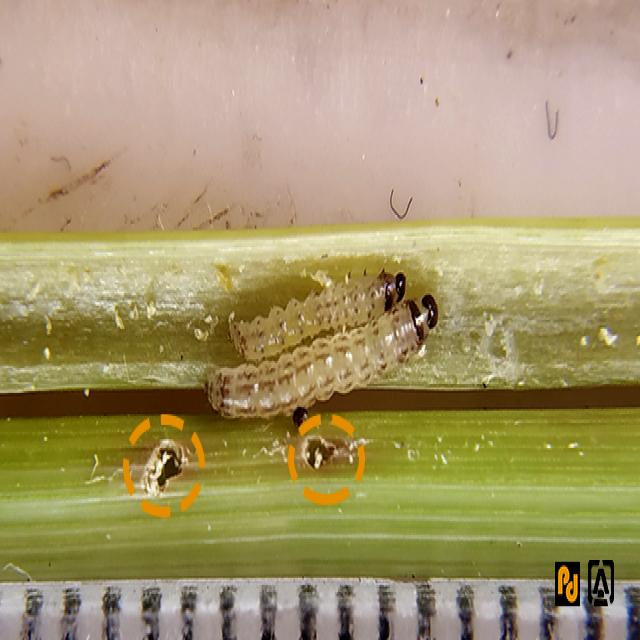cornborer-Larva-: (201, 290, 445, 425), (221, 266, 411, 359)
